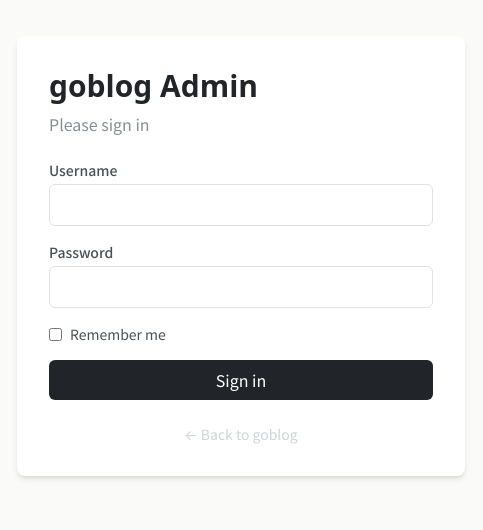
Test: Login › Login error › should show default error message for non-Error exceptions
Type "admin" into the field labelled "Username" at (241, 205), box [49,184,433,226]
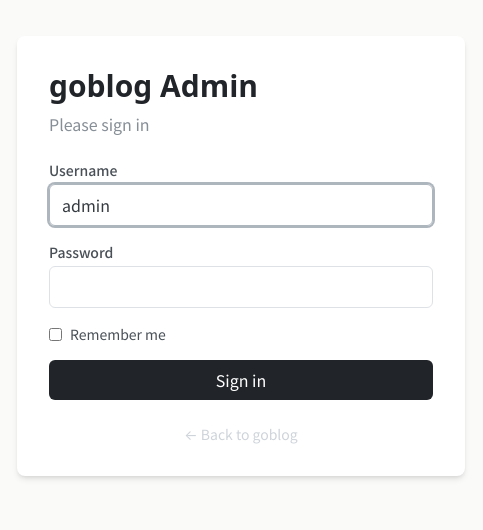
Type "password" into the password field labelled "Password" at (241, 287), box [49,266,433,308]
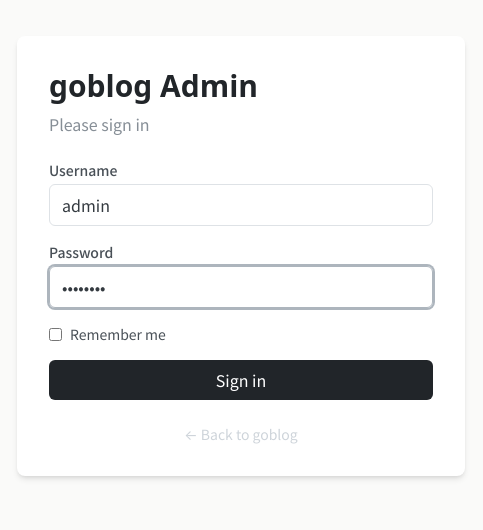
Click the button "Sign in" at (241, 380), box [49,360,433,400]
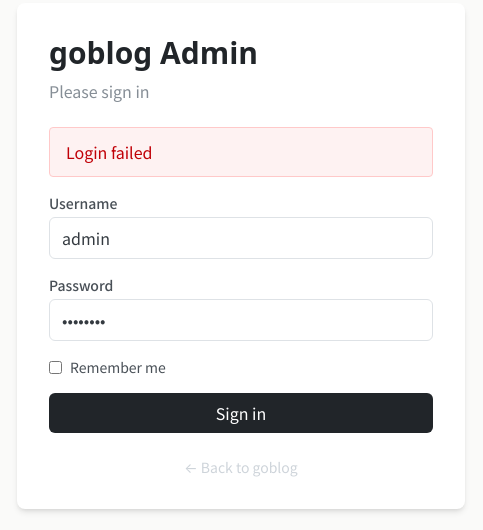
Result: the text "Login failed" is shown at [49,127,433,177]
